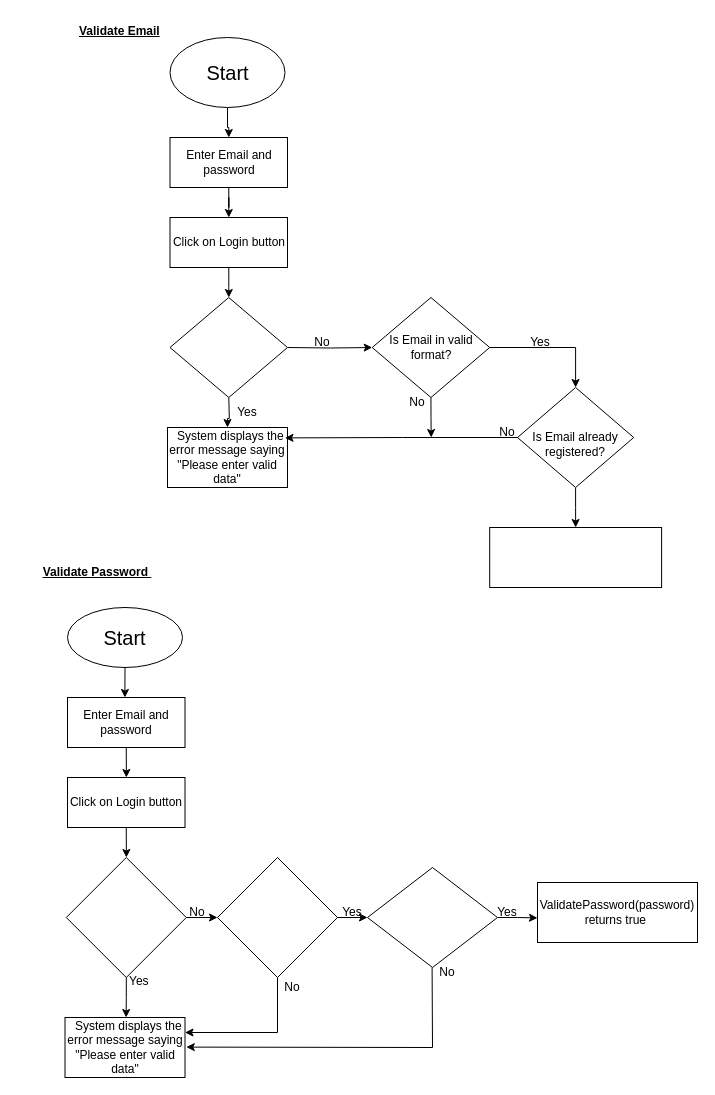
This 715x1095 diagram has some shape labels left out. Here are the shapes that lost their labels. From the top down, the centre of each, then its label:
At pixel 228 347: "Is Email empty?".
At pixel 575 557: "ValidateEmail(email) returns true".
At pixel 125 917: "Is password empty?".
At pixel 277 917: "Is password within length limits?".
At pixel 432 917: "Does password meet required constraints?".
